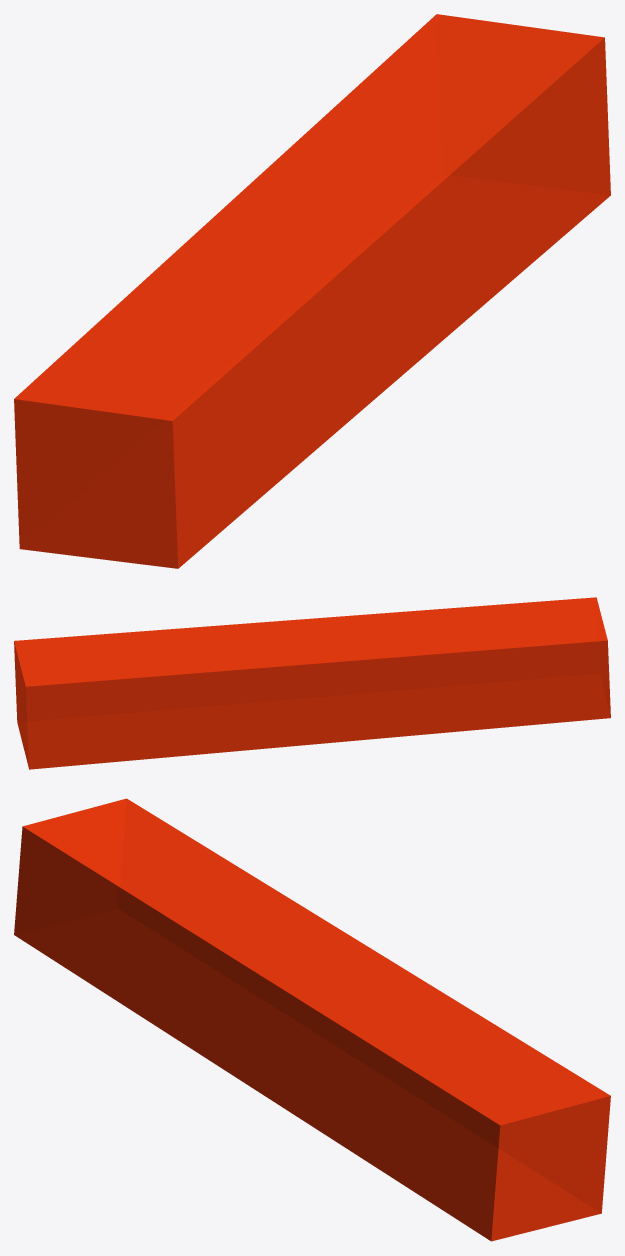
File: Event_421364160_EBrechit_32.fbx
3 views of the same model, one above another, from view 1: azimuth 30°, elevation 25°; view 2: azimuth 150°, elevation 25°; view 3: azimuth 270°, elevation 25° (orthographic). The views are drawn at different scales.
Parts seen in each view (by area): view 1: Model; view 2: Model; view 3: Model.
Part boxes in pixels (x1,y1,x2,y2): Model: (14, 14, 610, 568); Model: (14, 597, 610, 769); Model: (14, 798, 610, 1241).
Bounding box in the file's own units: 0.3368 × 0.0744 × 0.2751.
